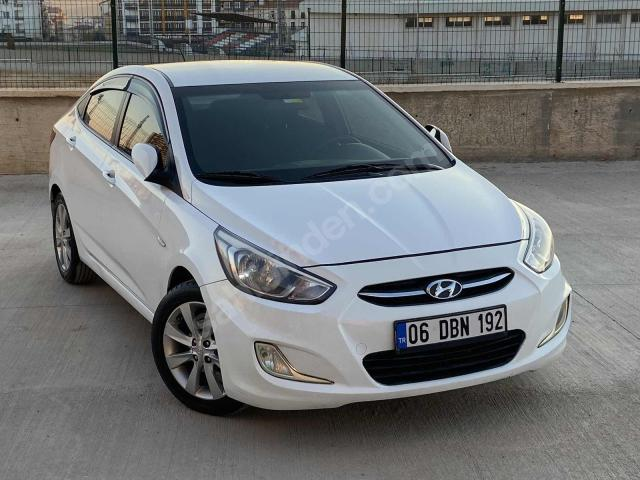plaka: (396, 307, 506, 349)
